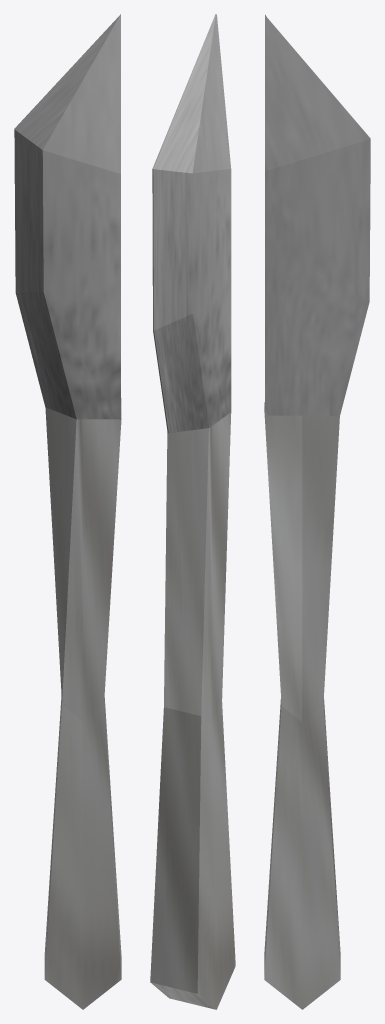
Rendered from knife.fbx.
The picture shows the model from 3 angles, left to right: view 1: azimuth 90°, elevation 25°; view 2: azimuth 150°, elevation 25°; view 3: azimuth 270°, elevation 25°; orthographic projection.
Parts seen in each view (by area): view 1: Cone, Cube; view 2: Cone, Cube; view 3: Cone, Cube.
Boxes of the visible parts, bbox=[...] form: Cone: bbox=[44, 398, 121, 1009]; Cube: bbox=[14, 14, 120, 419]; Cone: bbox=[150, 412, 235, 1009]; Cube: bbox=[152, 14, 231, 433]; Cone: bbox=[264, 402, 340, 1009]; Cube: bbox=[265, 14, 370, 415].
Bounding box in the file's own units: 120 × 2354 × 232.
